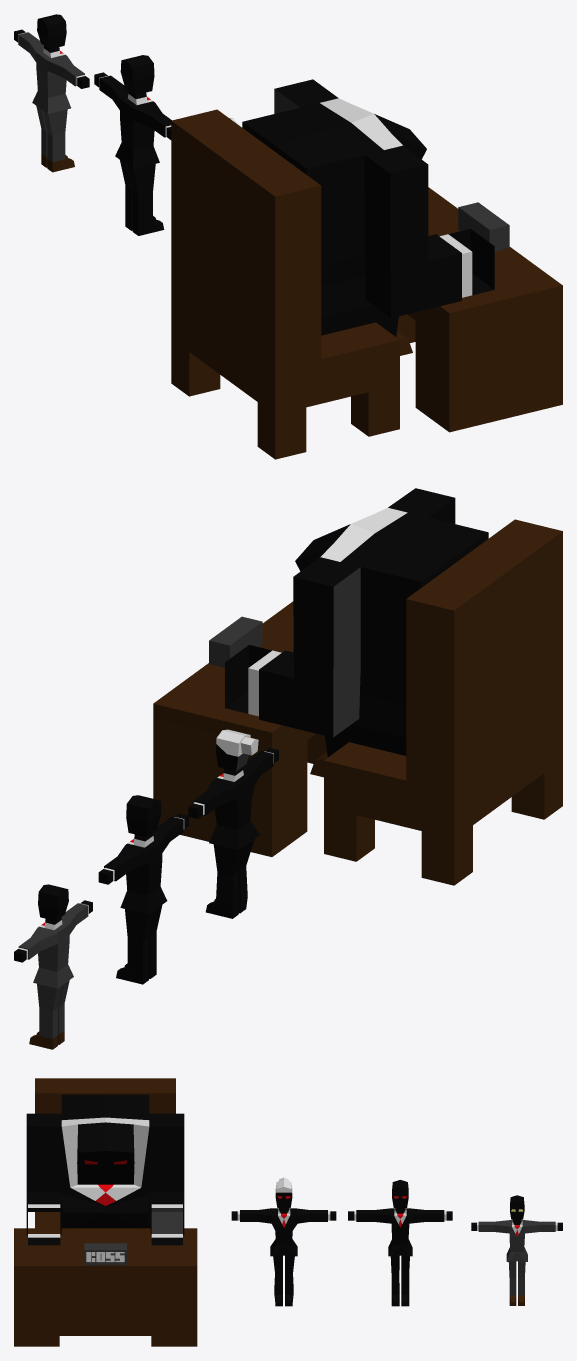
File: BuisnessPeople_V003-col.glb
3 renders of one model, top to bottom at view 1: azimuth 30°, elevation 25°; view 2: azimuth 150°, elevation 25°; view 3: azimuth 270°, elevation 25°, orthographic. The views are drawn at different scales.
Parts seen in each view (by area): view 1: Chair, BigBoss, Desk, SuitNPC, Player, BigBossNamePlate; view 2: Chair, BigBoss, Desk, SuitNPC.001, SuitNPC, Player, BigBossNamePlate; view 3: BigBoss, Desk, Chair, SuitNPC.001, SuitNPC, Player, BigBossNamePlate.
Part boxes in pixels (x1,y1,x2,y2): Chair: [171, 109, 399, 459]; BigBoss: [242, 79, 494, 355]; Desk: [397, 187, 562, 432]; SuitNPC: [94, 55, 171, 235]; Player: [14, 14, 89, 172]; BigBossNamePlate: [458, 202, 509, 251]; Chair: [324, 519, 562, 885]; BigBoss: [225, 488, 488, 777]; Desk: [153, 601, 326, 856]; SuitNPC.001: [188, 729, 278, 918]; SuitNPC: [98, 795, 188, 984]; Player: [14, 884, 92, 1049]; BigBossNamePlate: [209, 616, 262, 667]; BigBoss: [26, 1094, 184, 1245]; Desk: [14, 1228, 197, 1346]; Chair: [35, 1078, 175, 1228]; SuitNPC.001: [231, 1177, 336, 1306]; SuitNPC: [348, 1180, 452, 1306]; Player: [471, 1195, 562, 1305]; BigBossNamePlate: [84, 1243, 126, 1265].
Size of the model in its own units: 3.26 by 3.1 by 8.39.
